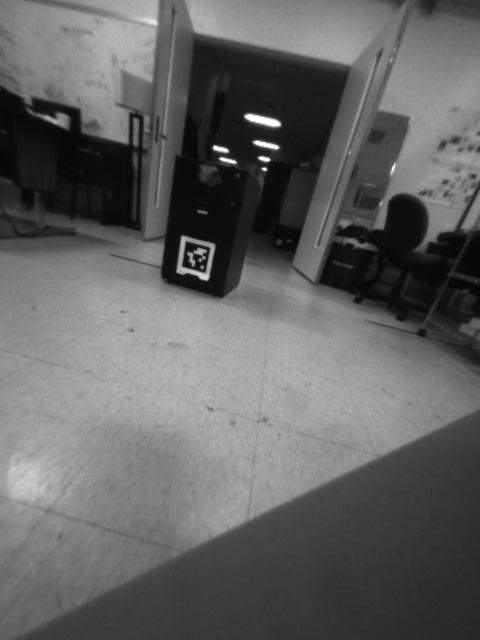handle: (196, 165, 220, 188)
